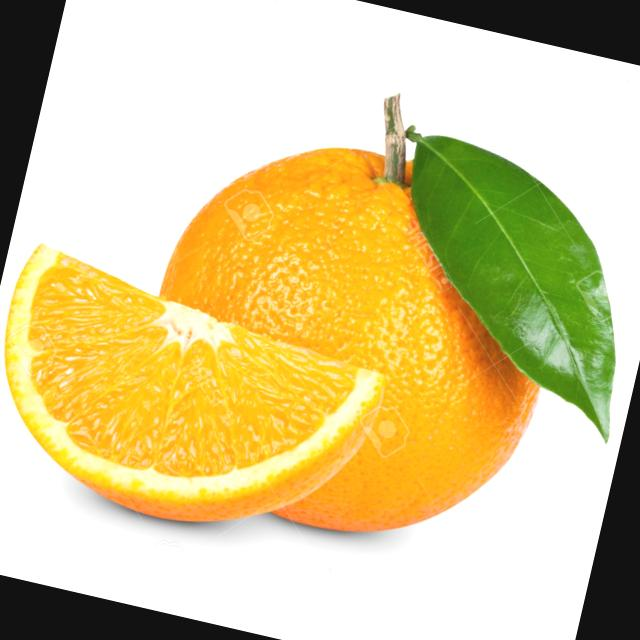orange: (99, 110, 594, 604)
